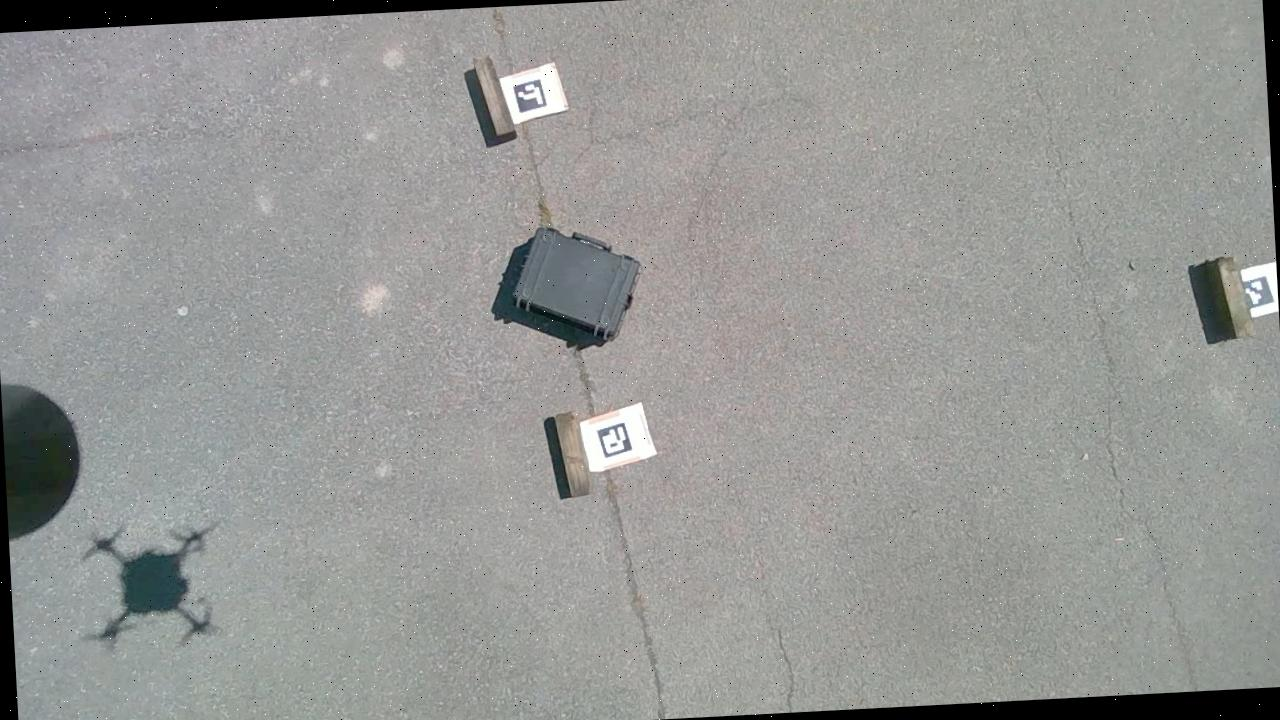rako: (503, 220, 648, 352)
